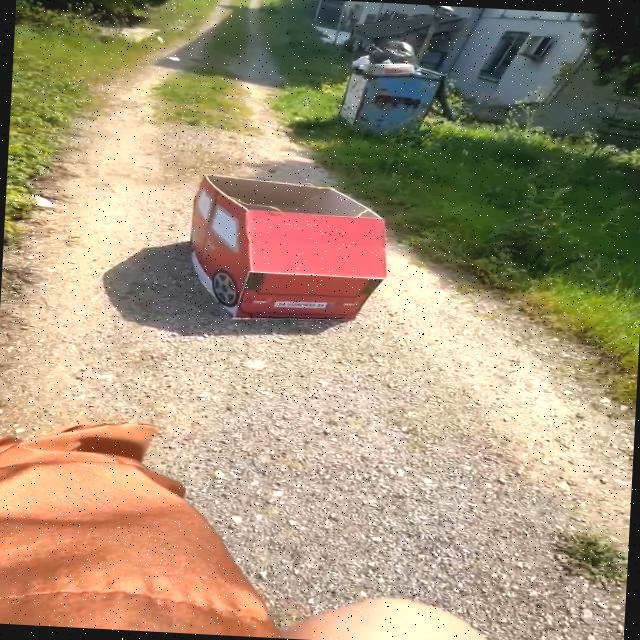red_car: (178, 166, 410, 347)
